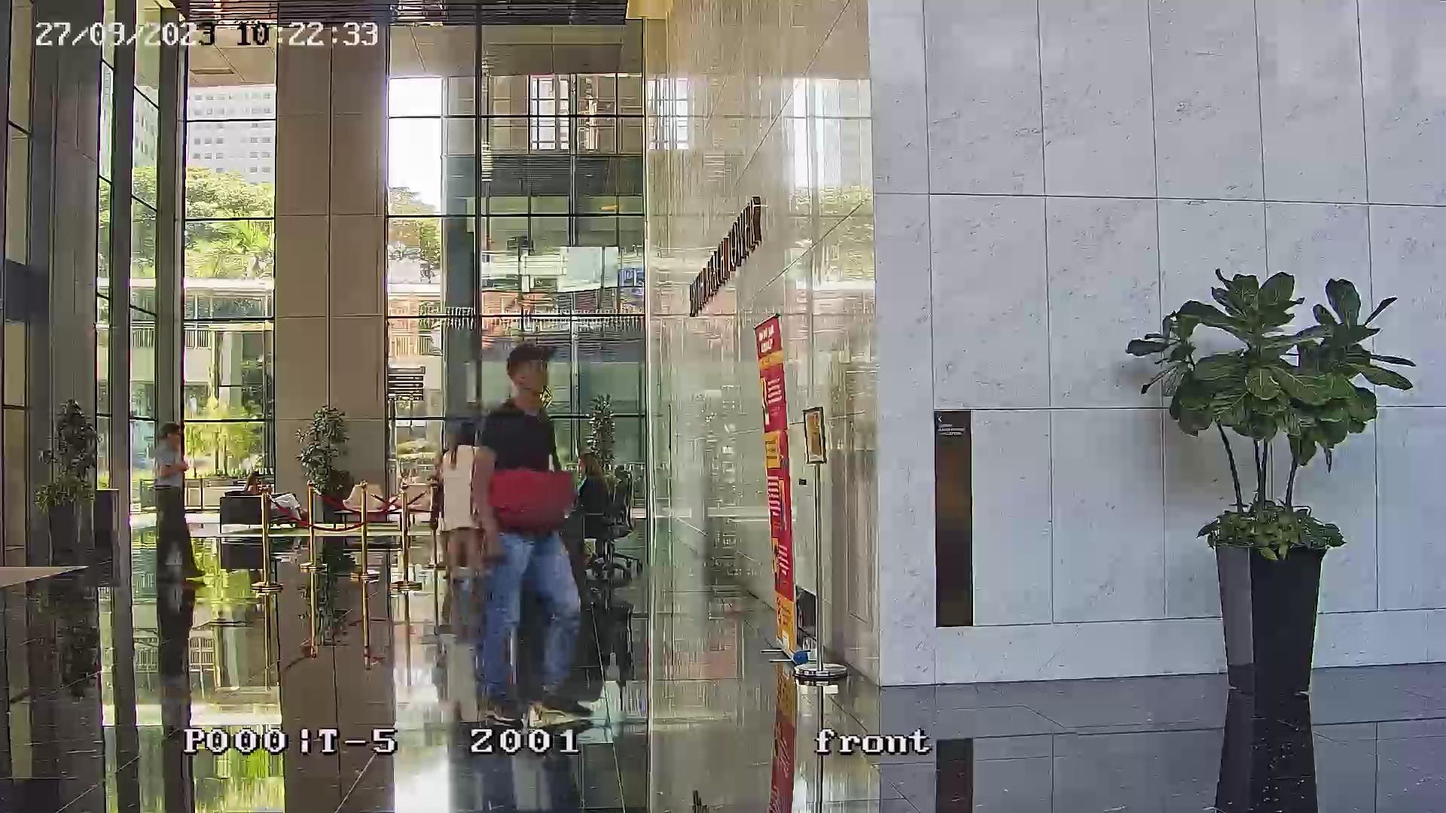person: (470, 343, 596, 731), (442, 424, 486, 586), (151, 421, 196, 572), (576, 453, 611, 531)
